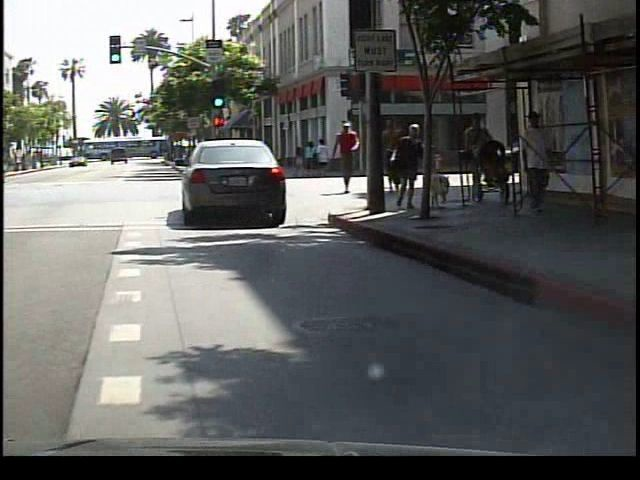person: (374, 110, 407, 198), (333, 114, 367, 198)
